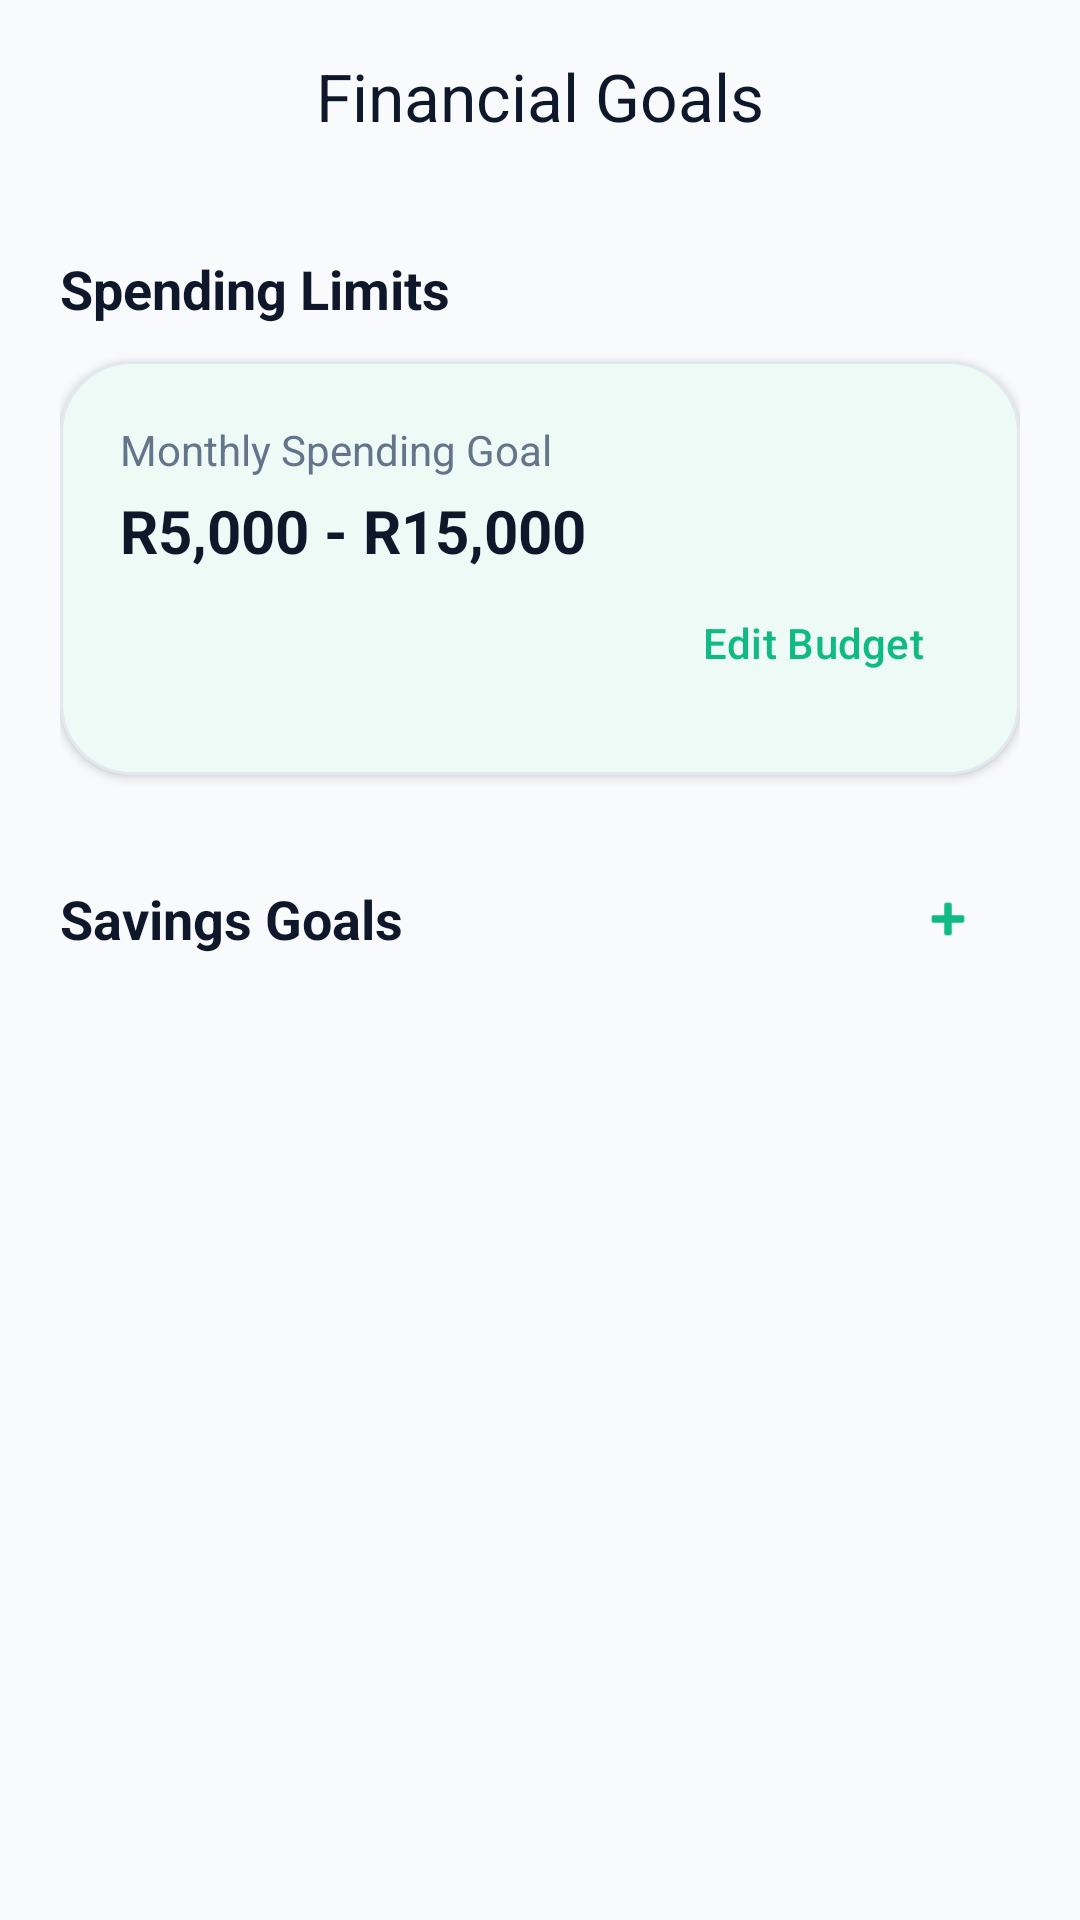

Where to tap for icons on this 1080px x 1920px app screen, as (x=x, y=y):
add: (x=948, y=919)
